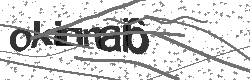,: (62, 24, 83, 48)
6: (127, 15, 148, 56)
a: (100, 25, 121, 52)
i: (54, 19, 62, 51)
k: (30, 19, 52, 51)
l: (121, 16, 129, 56)
n: (84, 27, 101, 51)
o: (9, 26, 33, 52)
